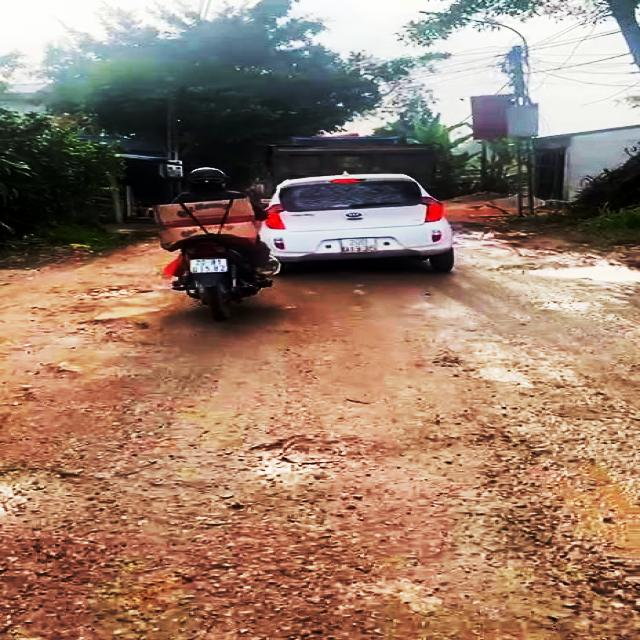pothole: (495, 431, 640, 640), (243, 429, 324, 483), (491, 260, 640, 284), (62, 316, 157, 352), (69, 286, 159, 304)
